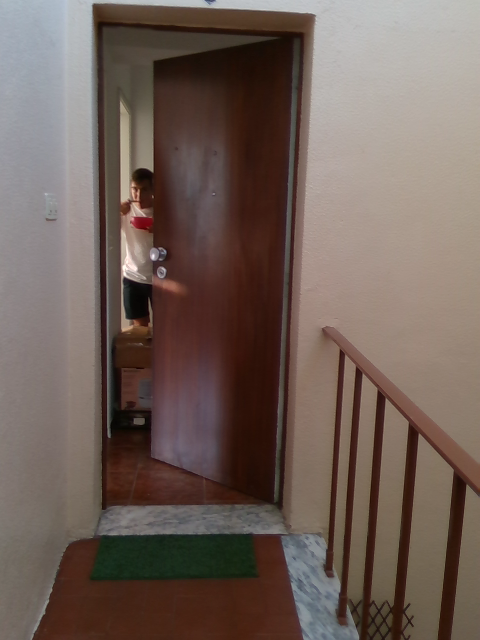semi: (86, 0, 317, 520)
